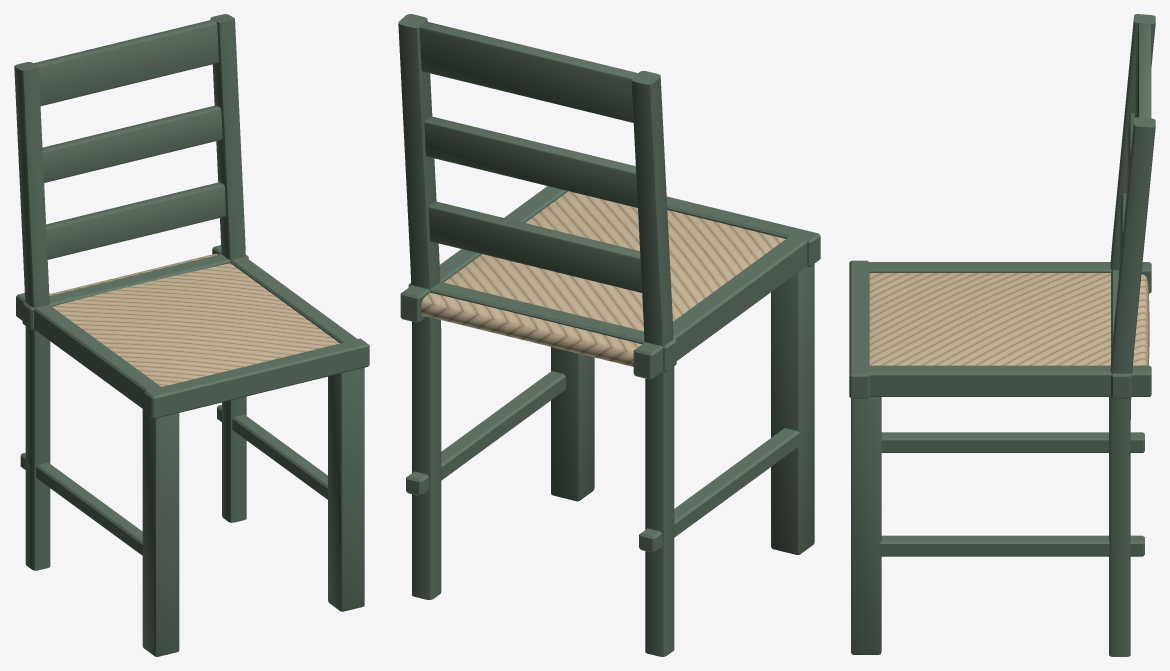
The model's file is silla_cocina_verde.glb.
3 renders of one model, left to right at view 1: azimuth 30°, elevation 25°; view 2: azimuth 150°, elevation 25°; view 3: azimuth 270°, elevation 25°, orthographic. The views are drawn at different scales.
Parts seen in each view (by area): view 1: silla_cocina_verde; view 2: silla_cocina_verde; view 3: silla_cocina_verde.
Boxes of the visible parts, box(x1,y1,x2,y2) form: silla_cocina_verde: box(14, 14, 369, 656); silla_cocina_verde: box(398, 14, 820, 656); silla_cocina_verde: box(849, 14, 1155, 656).
Bounding box in the file's own units: 0.4 × 0.8614 × 0.451.
Materials: 2 (1 with a texture image).
